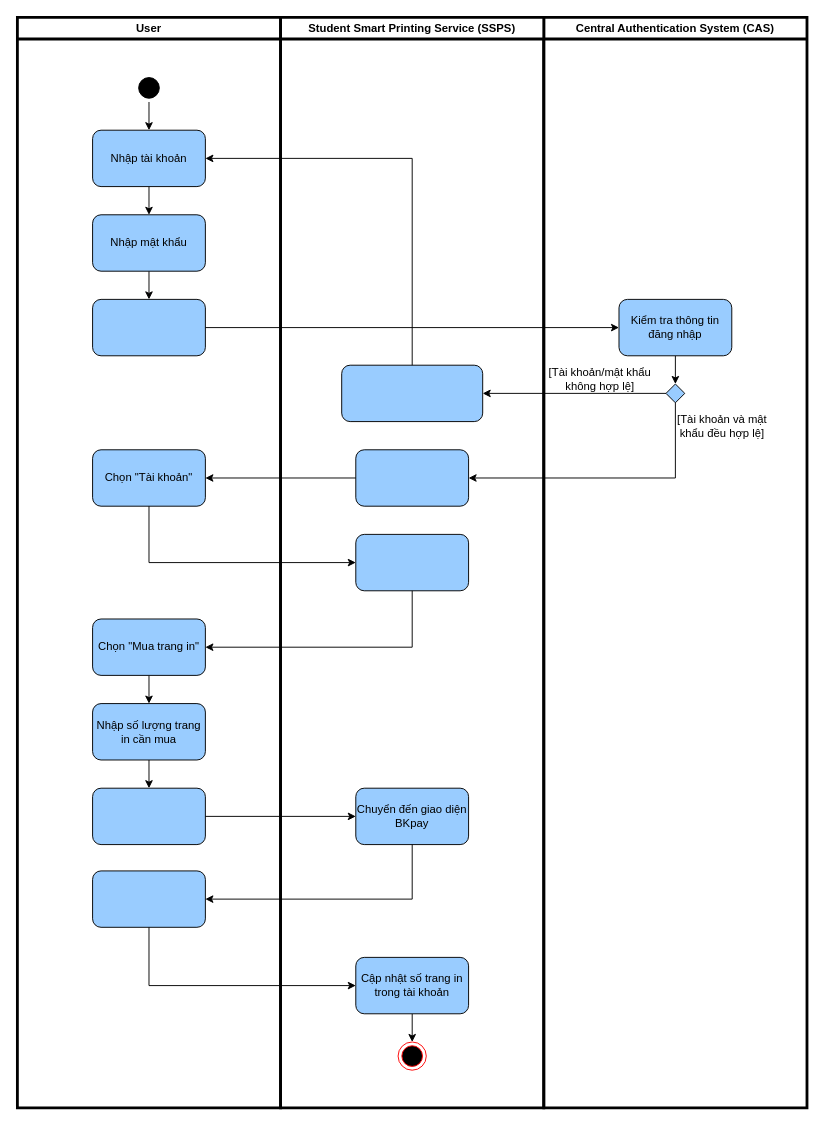
This 824x1125 diagram has some shape labels left out. Here are the shapes that lost their labels. From the top down, the box of each, then its label:
(92, 298, 205, 356): Đăng nhập
(341, 364, 483, 422): Thông báo thông tin đăng nhập không hợp lệ
(355, 449, 469, 506): Hiển thị giao diện chính
(355, 533, 469, 591): Hiển thị giao diện tài khoản
(92, 787, 205, 845): Xác nhận thanh toán
(92, 870, 205, 927): Tiến hành thanh toán
